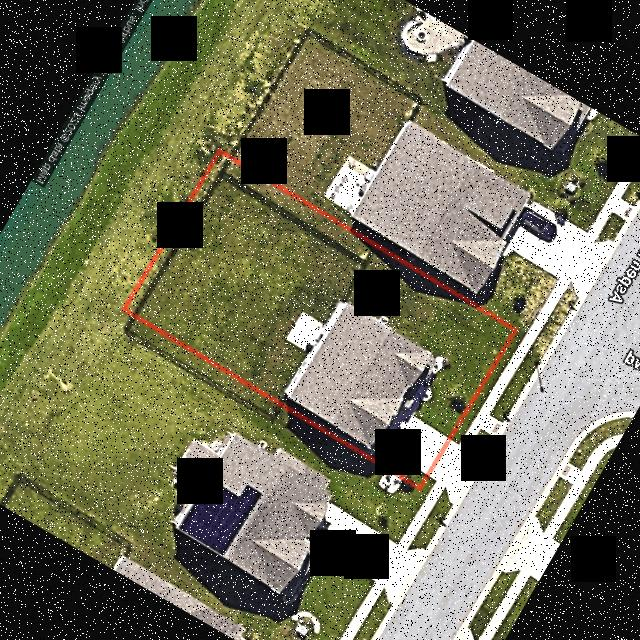Driveway: (376, 406, 448, 474)
Extra Driveway: (430, 440, 487, 504)
Extra Lawn: (452, 328, 526, 444), (489, 338, 549, 422), (468, 428, 495, 450), (437, 486, 454, 509), (420, 476, 437, 496)
Extra Sidewalk: (459, 333, 535, 449), (427, 480, 446, 501)
House: (285, 302, 433, 449), (287, 301, 435, 447)
Other: (400, 355, 446, 414), (379, 315, 388, 323)
